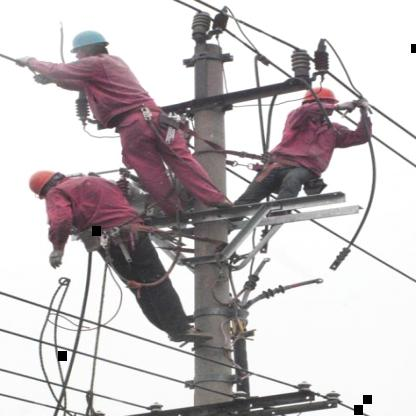helmet: (24, 161, 65, 202), (67, 26, 116, 54), (300, 85, 341, 103)
